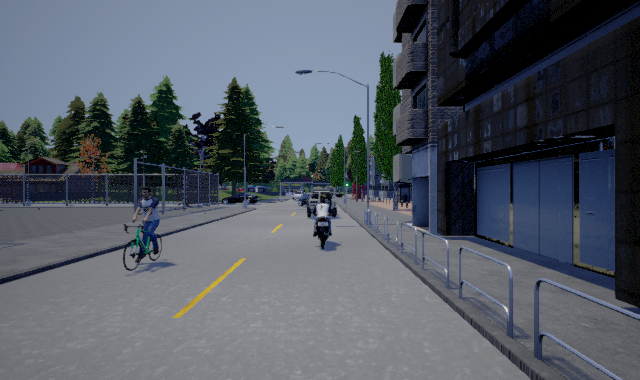bike: (124, 182, 166, 270)
motobike: (312, 198, 335, 248)
traffic_light: (345, 176, 349, 187)
vehicle: (293, 189, 337, 218)
